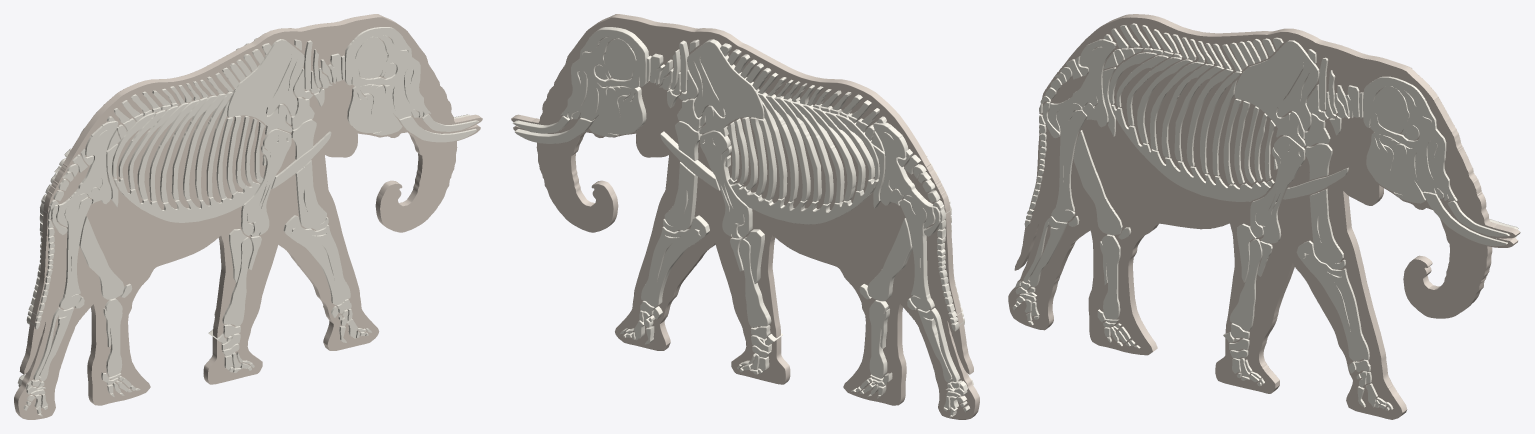
Rendered from slonv3glb.glb.
The picture shows the model from 3 angles, left to right: view 1: azimuth 30°, elevation 25°; view 2: azimuth 150°, elevation 25°; view 3: azimuth 330°, elevation 25°; orthographic projection. The views are drawn at different scales.
Parts seen in each view (by area): view 1: Extrusion Model, Extrusion Model.000; view 2: Extrusion Model.000, Extrusion Model; view 3: Extrusion Model, Extrusion Model.000.
Part boxes in pixels (<box>): Extrusion Model: <box>14,14,482,419</box>; Extrusion Model.000: <box>17,27,478,416</box>; Extrusion Model.000: <box>512,27,973,417</box>; Extrusion Model: <box>511,14,979,419</box>; Extrusion Model: <box>1008,14,1520,419</box>; Extrusion Model.000: <box>1012,23,1518,410</box>.
Size of the model in its own units: 260 by 180 by 9.32.
